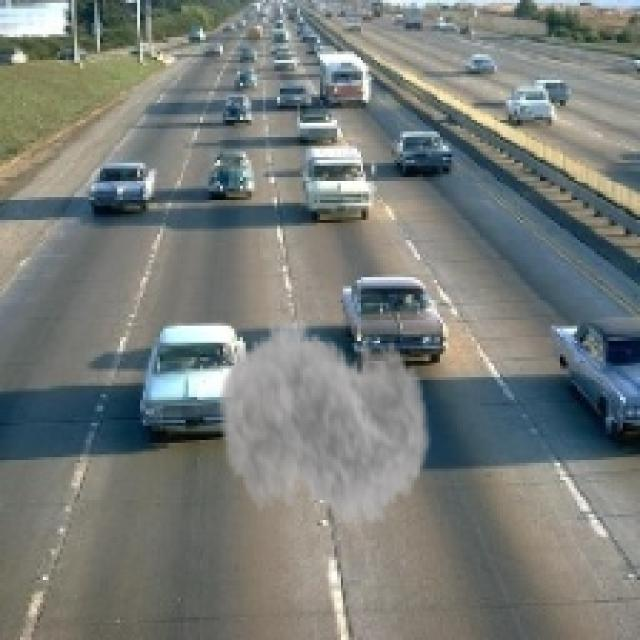Smoke: (217, 297, 432, 554)
